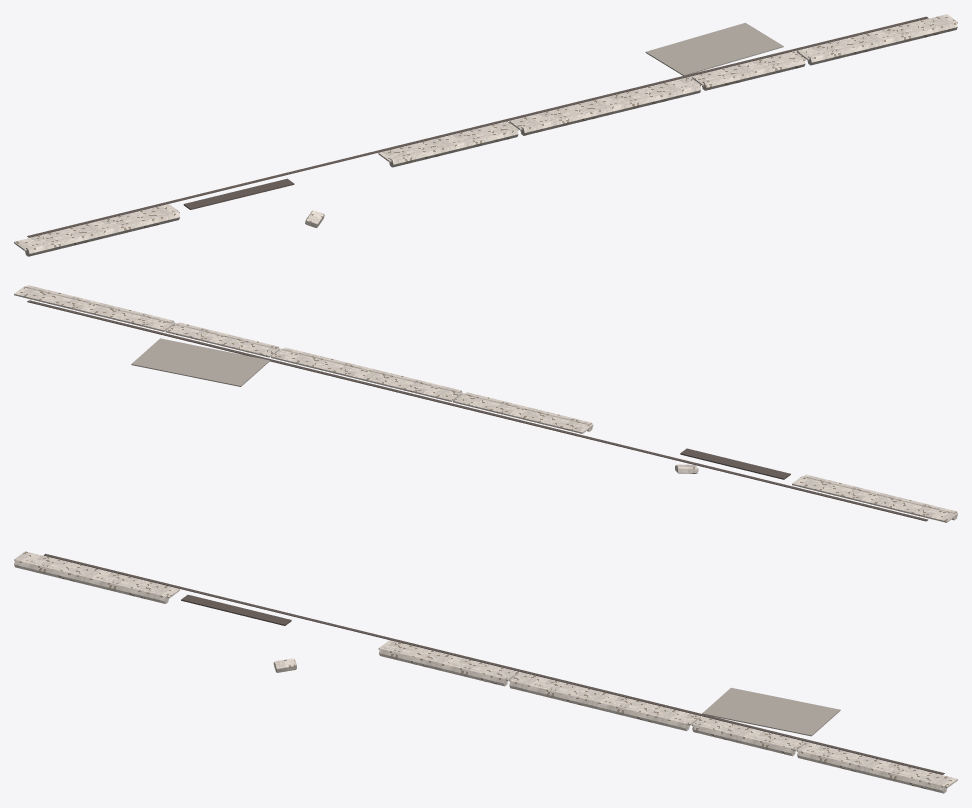
File: s_longstep_b.glb
3 renders of one model, top to bottom at view 1: azimuth 30°, elevation 25°; view 2: azimuth 150°, elevation 25°; view 3: azimuth 330°, elevation 25°, orthographic.
Visible parts, largest first — view 1: s_longstep_b_mesh; view 2: s_longstep_b_mesh; view 3: s_longstep_b_mesh.
Boxes of the visible parts, box(x1,y1,x2,y2) form: s_longstep_b_mesh: box(14, 14, 957, 256); s_longstep_b_mesh: box(14, 285, 957, 522); s_longstep_b_mesh: box(14, 551, 957, 793).
Size of what is drawn, in the model's own units: 7.99 by 0.2996 by 1.01.
Materials: 3 (3 with a texture image).
